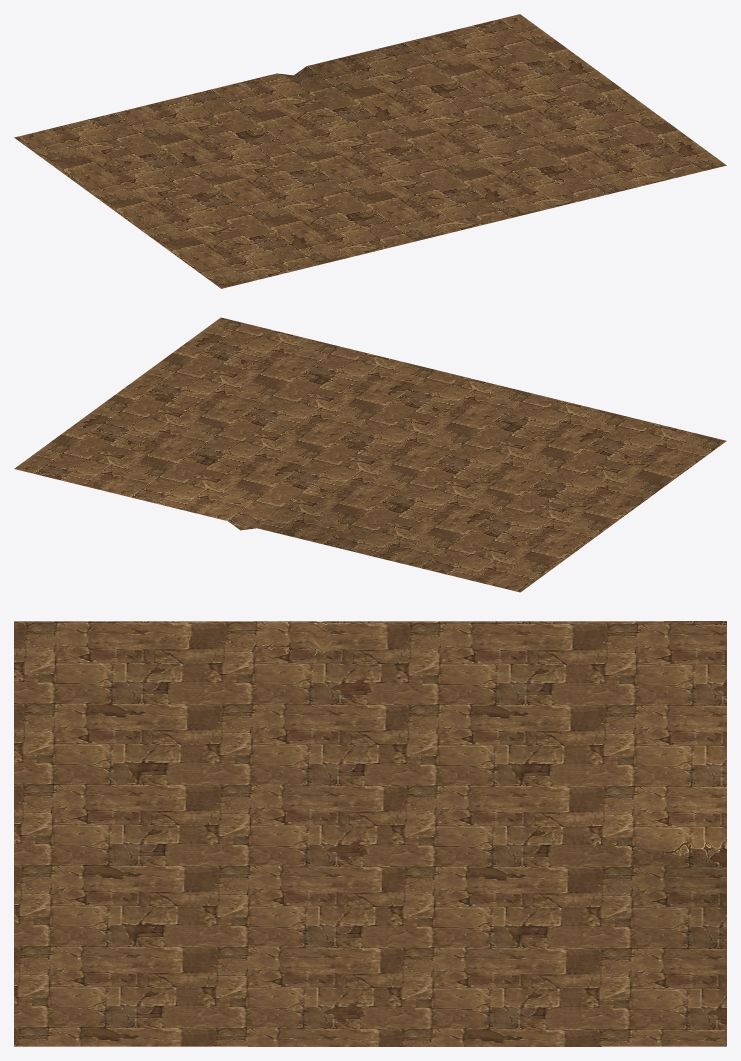
Rendered from Scene_dimian_012_p1.FBX.
3 renders of one model, top to bottom at view 1: azimuth 30°, elevation 25°; view 2: azimuth 150°, elevation 25°; view 3: azimuth 270°, elevation 25°, orthographic. The views are drawn at different scales.
Parts seen in each view (by area): view 1: Scene_dimian_012_p1; view 2: Scene_dimian_012_p1; view 3: Scene_dimian_012_p1.
Part boxes in pixels (x1=…): Scene_dimian_012_p1: x1=14, y1=14, x2=726, y2=288; Scene_dimian_012_p1: x1=14, y1=317, x2=726, y2=592; Scene_dimian_012_p1: x1=14, y1=621, x2=726, y2=1046.
Size of the model in its own units: 34.08 by 0.3962 by 24.12.
